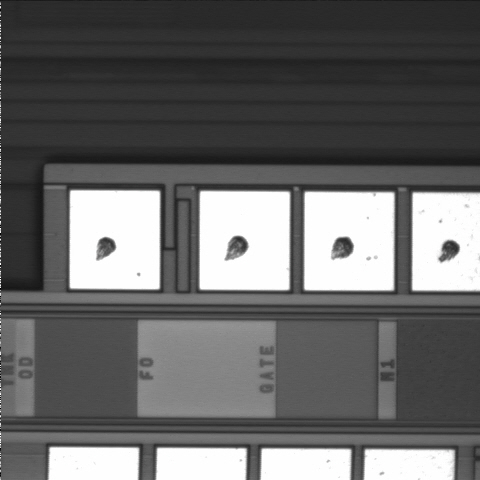pad: (70, 190, 160, 289), (200, 191, 290, 290), (304, 192, 394, 290)
